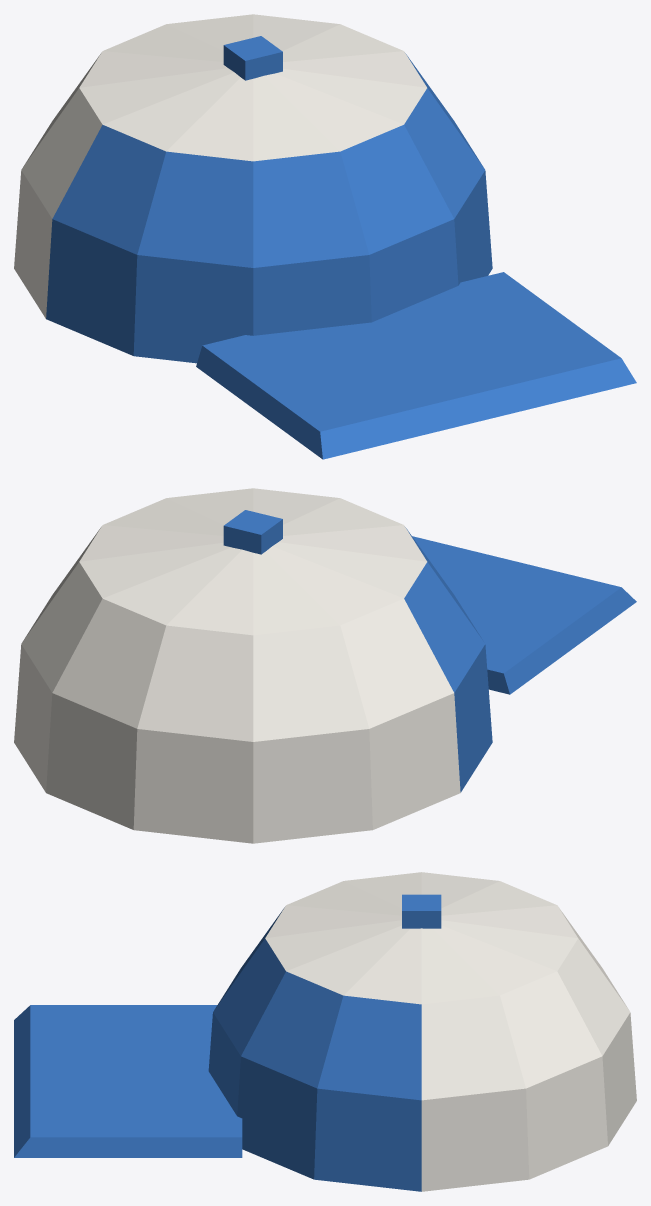
Rendered from COS_TruckerCap.fbx.
3 renders of one model, top to bottom at view 1: azimuth 30°, elevation 25°; view 2: azimuth 150°, elevation 25°; view 3: azimuth 270°, elevation 25°, orthographic. The views are drawn at different scales.
Visible parts, largest first — view 1: COS_TruckerCap; view 2: COS_TruckerCap; view 3: COS_TruckerCap.
Part boxes in pixels (x1,y1,x2,y2): COS_TruckerCap: (14,14,636,459); COS_TruckerCap: (14,488,636,843); COS_TruckerCap: (14,872,636,1191).
Bounding box in the file's own units: 1.32 × 0.67 × 1.91.
